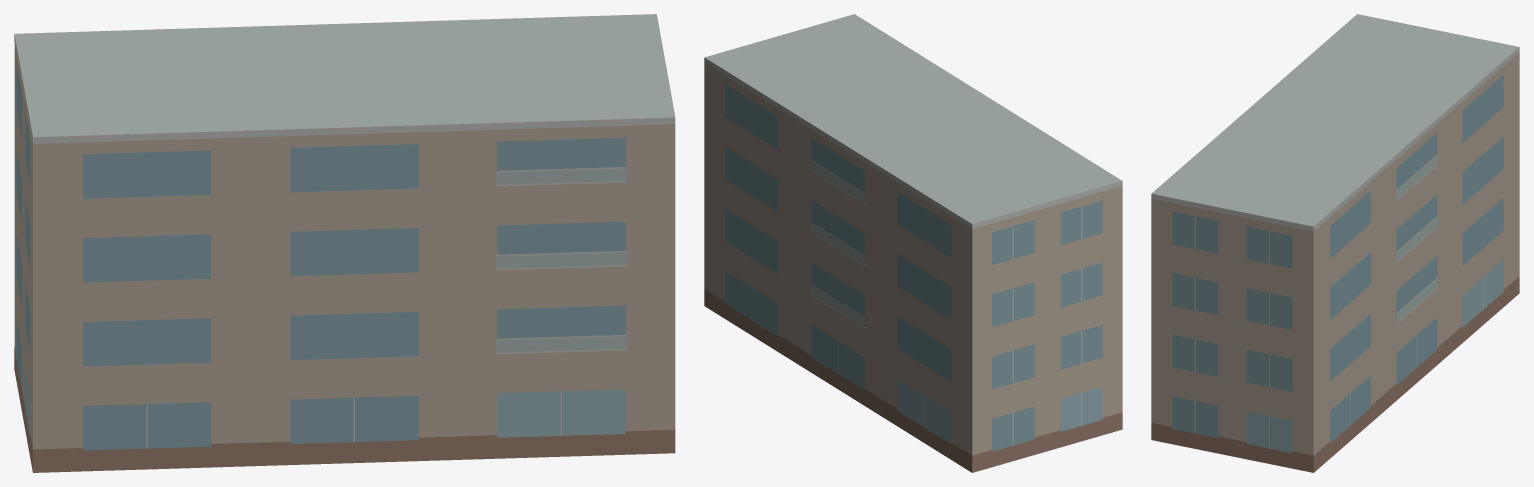
Rendered from survey-upis-32696218.glb.
3 renders of one model, left to right at view 1: azimuth 30°, elevation 25°; view 2: azimuth 150°, elevation 25°; view 3: azimuth 270°, elevation 25°, orthographic. The views are drawn at different scales.
Parts seen in each view (by area): view 1: survey-upis-32696218.tmp; view 2: survey-upis-32696218.tmp; view 3: survey-upis-32696218.tmp.
Part boxes in pixels (x1=…): survey-upis-32696218.tmp: x1=14, y1=14, x2=675, y2=472; survey-upis-32696218.tmp: x1=704, y1=14, x2=1122, y2=472; survey-upis-32696218.tmp: x1=1151, y1=14, x2=1519, y2=472.
Bounding box in the file's own units: 22.61 × 12.2 × 16.55.
